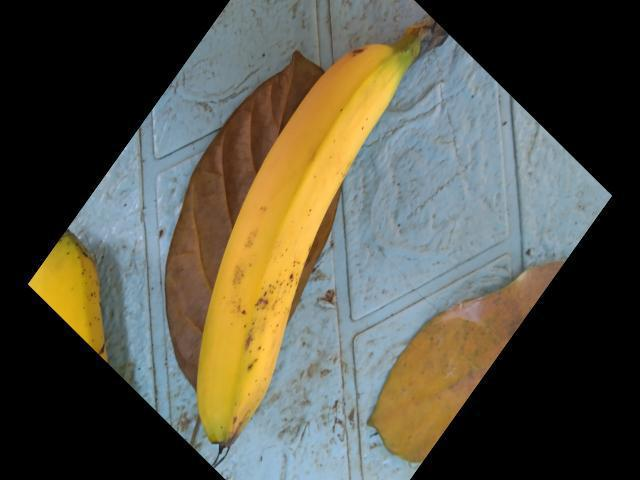ripe: (171, 46, 422, 454)
